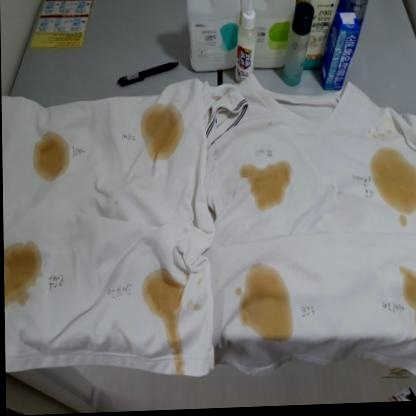coffee: (140, 106, 183, 155), (249, 273, 284, 333), (377, 155, 415, 207), (3, 247, 33, 293), (148, 276, 178, 315), (36, 137, 65, 175), (254, 166, 284, 202), (404, 271, 415, 303)
